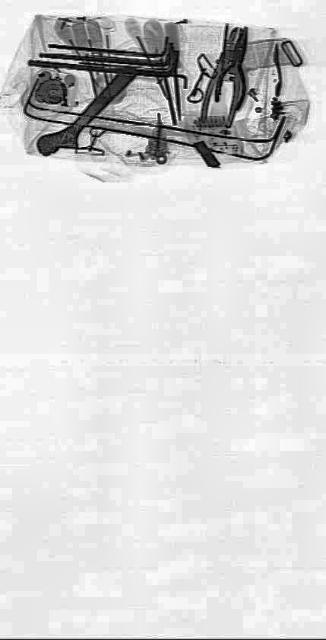Pliers: (198, 15, 254, 142), (212, 15, 260, 119)
Wrench: (34, 42, 140, 178)
